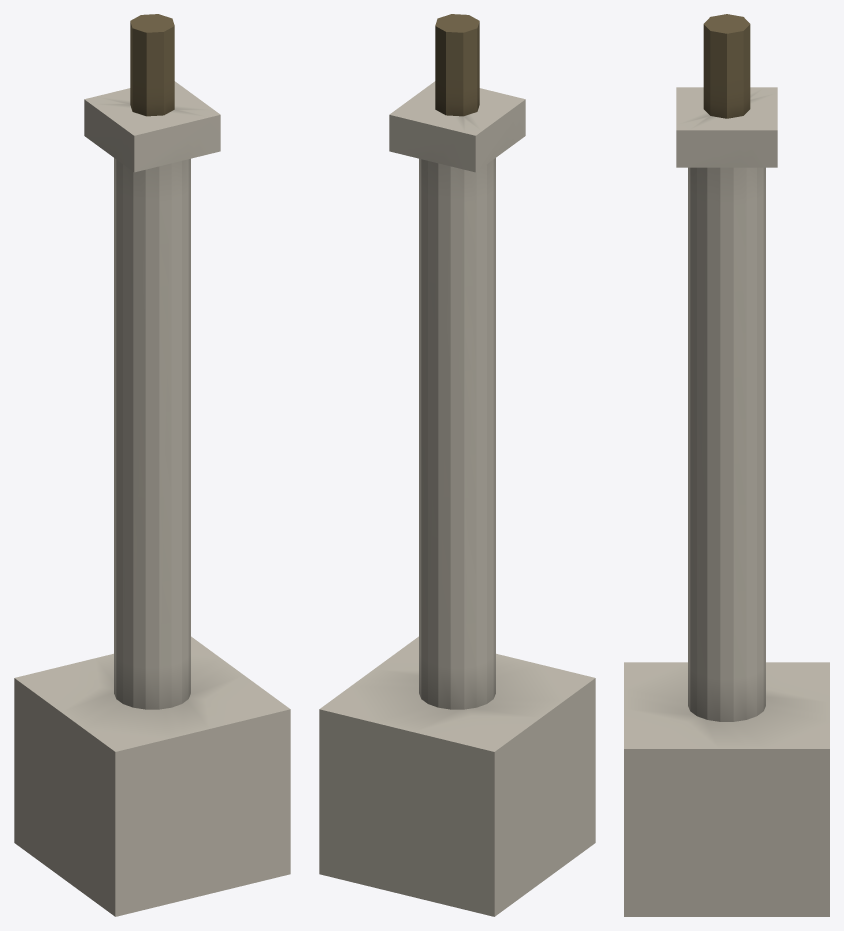
The model's file is column-of-marcus-aurelius.glb.
3 views of the same model, side by side, from view 1: azimuth 30°, elevation 25°; view 2: azimuth 150°, elevation 25°; view 3: azimuth 270°, elevation 25° (orthographic).
Parts seen in each view (by area): view 1: p0_base, p1_shaft, p2_statue; view 2: p0_base, p1_shaft, p2_statue; view 3: p0_base, p1_shaft, p2_statue.
Part boxes in pixels (x1,y1,x2,y2): p0_base: (14,636,290,916); p1_shaft: (114,158,190,709); p2_statue: (84,14,220,172); p0_base: (319,636,595,916); p1_shaft: (419,158,495,709); p2_statue: (389,14,525,172); p0_base: (624,662,829,916); p1_shaft: (688,167,765,721); p2_statue: (676,14,777,167).
Bounding box in the file's own units: 10 × 45.56 × 10.
